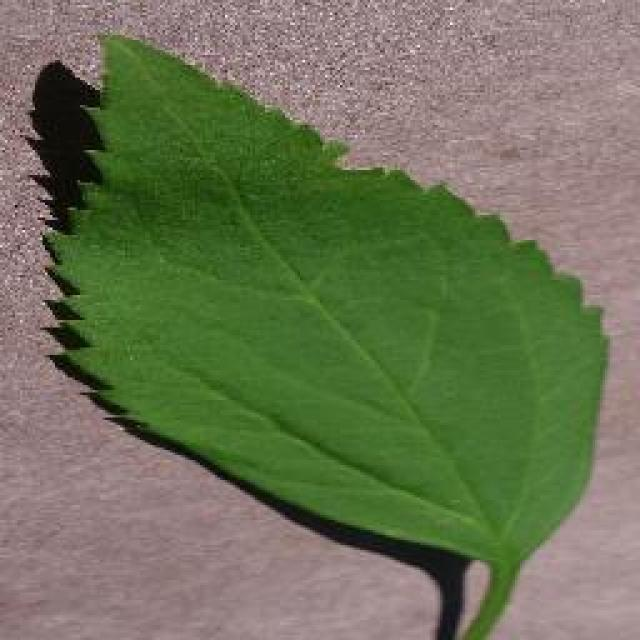Cherry___healthy: (91, 88, 554, 517)
